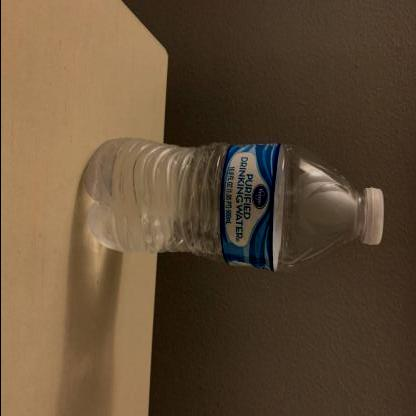bottle: (86, 141, 380, 268)
